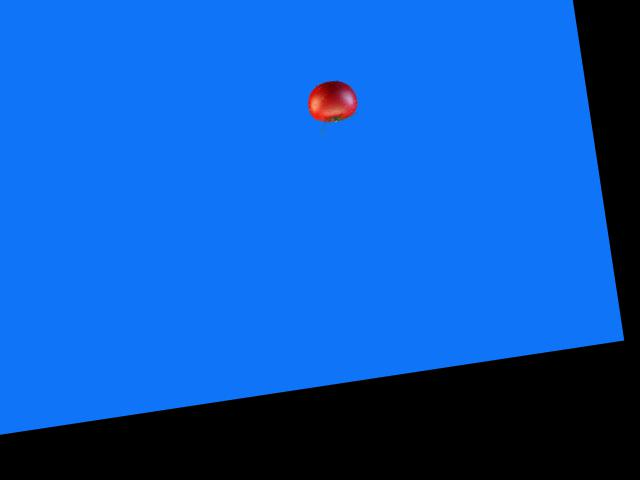tomato: (305, 77, 360, 124)
